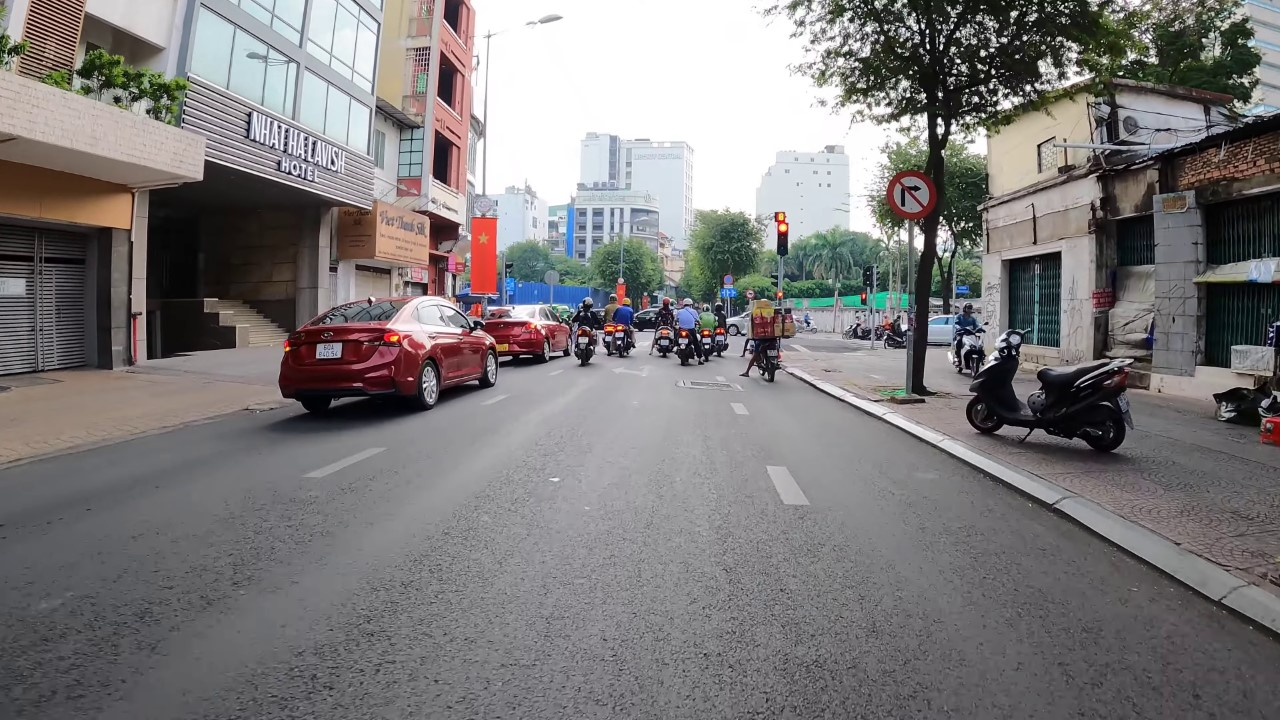cam_re_phai: (883, 165, 938, 225)
